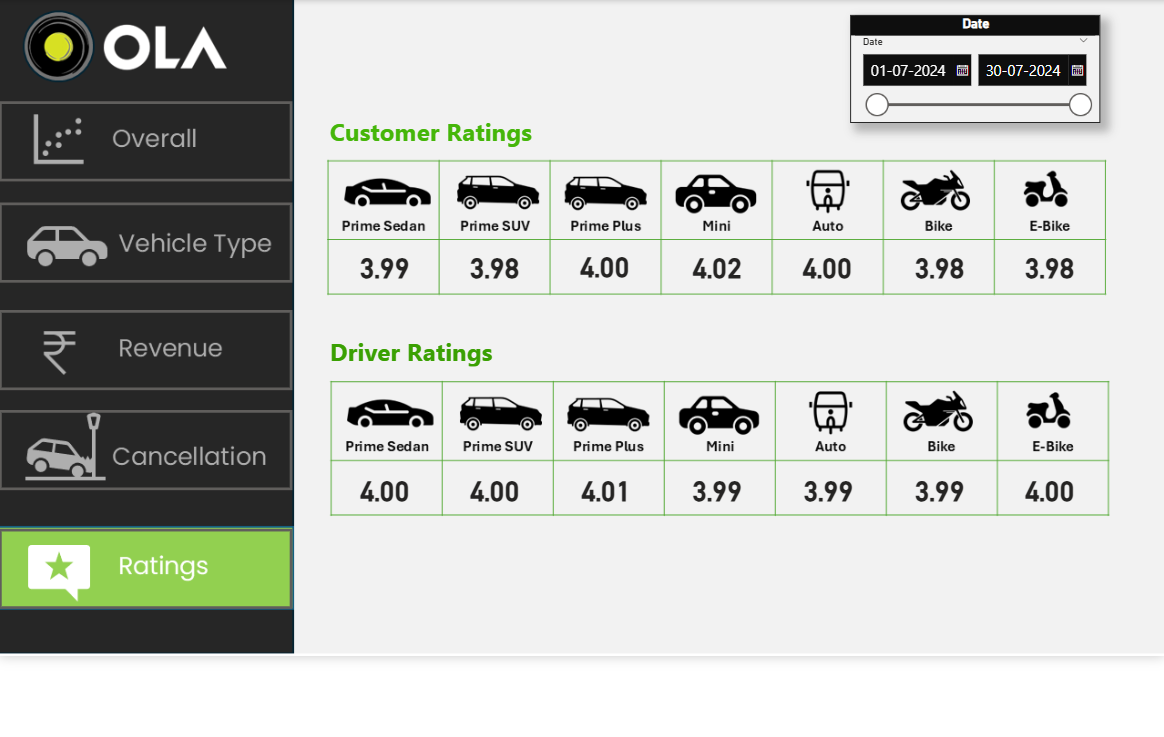

This screenshot's page, from the dashboard's own definition file:
{"tool":"powerbi","page":{"name":"ratings","canvas":[1280,720],"ordinal":4},"visuals":[{"type":"actionButton","box":[0,222,322.1,88.1],"z":0},{"type":"actionButton","box":[0,340.2,322.1,88.1],"z":1000},{"type":"actionButton","box":[0,450,322.1,88.1],"z":2000},{"type":"actionButton","box":[0,580.3,322.1,88.1],"z":3000},{"type":"actionButton","box":[0,111,322.1,88.1],"z":4000},{"type":"card","fields":{"Values":["Avg(July.Customer_Rating)"]},"box":[367.8,266.2,111.1,53.5],"z":5000},{"type":"card","fields":{"Values":["Avg(July.Customer_Rating)"]},"box":[488.5,266.2,111.1,53.5],"z":6000},{"type":"card","fields":{"Values":["Avg(July.Customer_Rating)"]},"box":[609.3,264.8,111.1,53.5],"z":7000},{"type":"card","fields":{"Values":["Avg(July.Customer_Rating)"]},"box":[732.8,266.2,111.1,53.5],"z":8000},{"type":"card","fields":{"Values":["Avg(July.Customer_Rating)"]},"box":[853.5,266.2,111.1,53.5],"z":9000},{"type":"card","fields":{"Values":["Avg(July.Customer_Rating)"]},"box":[977,266.2,111.1,53.5],"z":10000},{"type":"card","fields":{"Values":["Avg(July.Customer_Rating)"]},"box":[1097.8,266.2,111.1,53.5],"z":11000},{"type":"card","fields":{"Values":["Avg(July.Driver_Ratings)"]},"box":[367.8,510.5,111.1,53.5],"z":12000},{"type":"card","fields":{"Values":["Avg(July.Driver_Ratings)"]},"box":[488.5,510.5,111.1,53.5],"z":13000},{"type":"card","fields":{"Values":["Avg(July.Driver_Ratings)"]},"box":[610.6,510.5,111.1,53.5],"z":13001},{"type":"card","fields":{"Values":["Avg(July.Driver_Ratings)"]},"box":[732.8,510.5,111.1,53.5],"z":13002},{"type":"card","fields":{"Values":["Avg(July.Driver_Ratings)"]},"box":[854.9,510.5,111.1,53.5],"z":13003},{"type":"card","fields":{"Values":["Avg(July.Driver_Ratings)"]},"box":[977,510.5,111.1,53.5],"z":13004},{"type":"card","fields":{"Values":["Avg(July.Driver_Ratings)"]},"box":[1097.8,510.5,111.1,53.5],"z":13005},{"type":"textbox","box":[358.1,120.8,281.3,46.7],"z":13006},{"type":"textbox","box":[358.1,362.3,269,45.3],"z":13007},{"type":"slicer","title":"Date","fields":{"Values":["July.Date"]},"box":[934.5,16.5,274.4,118],"z":13008}]}

Visuals, with their boxes on the page's 1280x720 design canvas (x1, y1, x2, y2). These are canvas units, not pixel positions in the 1164x737 screenshot, which may show the page scaled, cropped or inside an application window:
actionButton: region(0, 222, 322, 310)
actionButton: region(0, 340, 322, 428)
actionButton: region(0, 450, 322, 538)
actionButton: region(0, 580, 322, 668)
actionButton: region(0, 111, 322, 199)
card - Avg(July.Customer_Rating): region(368, 266, 479, 320)
card - Avg(July.Customer_Rating): region(488, 266, 600, 320)
card - Avg(July.Customer_Rating): region(609, 265, 720, 318)
card - Avg(July.Customer_Rating): region(733, 266, 844, 320)
card - Avg(July.Customer_Rating): region(854, 266, 965, 320)
card - Avg(July.Customer_Rating): region(977, 266, 1088, 320)
card - Avg(July.Customer_Rating): region(1098, 266, 1209, 320)
card - Avg(July.Driver_Ratings): region(368, 510, 479, 564)
card - Avg(July.Driver_Ratings): region(488, 510, 600, 564)
card - Avg(July.Driver_Ratings): region(611, 510, 722, 564)
card - Avg(July.Driver_Ratings): region(733, 510, 844, 564)
card - Avg(July.Driver_Ratings): region(855, 510, 966, 564)
card - Avg(July.Driver_Ratings): region(977, 510, 1088, 564)
card - Avg(July.Driver_Ratings): region(1098, 510, 1209, 564)
textbox: region(358, 121, 639, 168)
textbox: region(358, 362, 627, 408)
"Date" slicer: region(934, 16, 1209, 134)
